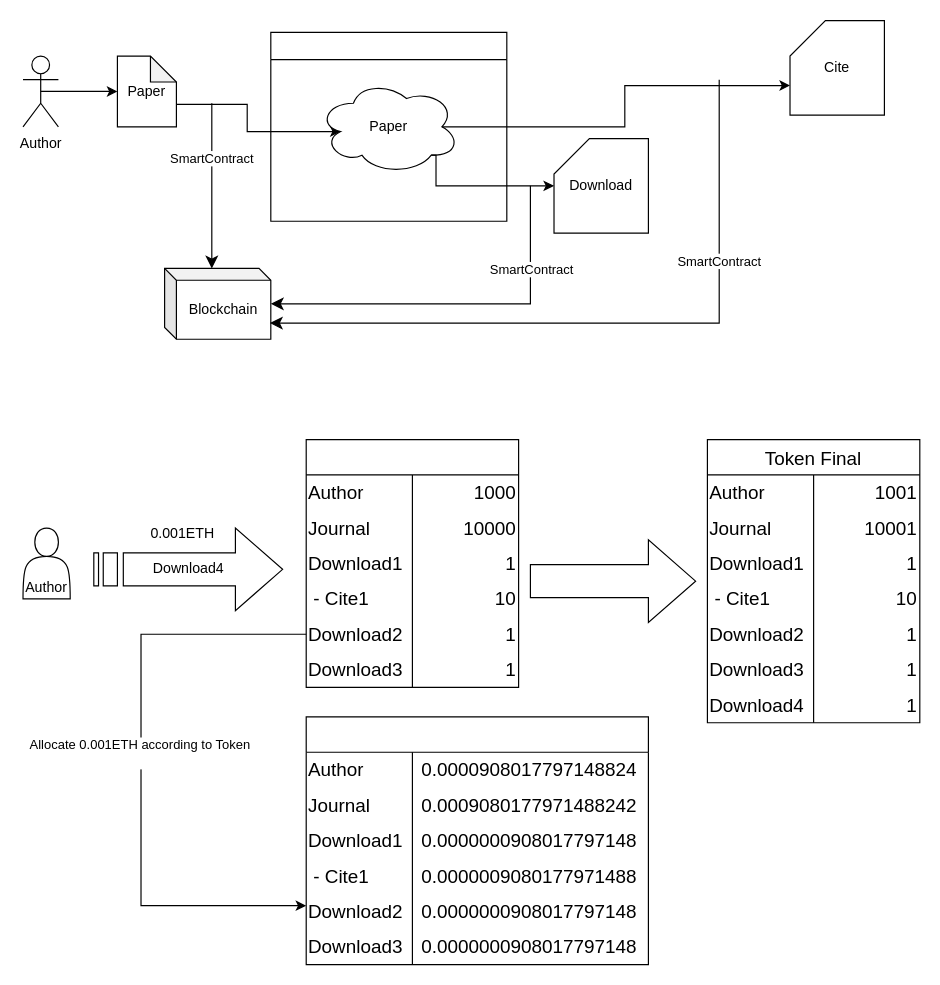
This 940x985 diagram has some shape labels left out. Each missing label, with the box of its shape:
Finance ETH: (305, 716, 648, 965)
Join the DAO: (529, 539, 696, 622)
Journal DAO Website: (270, 31, 507, 221)
Paper DAO Token: (305, 438, 519, 687)
